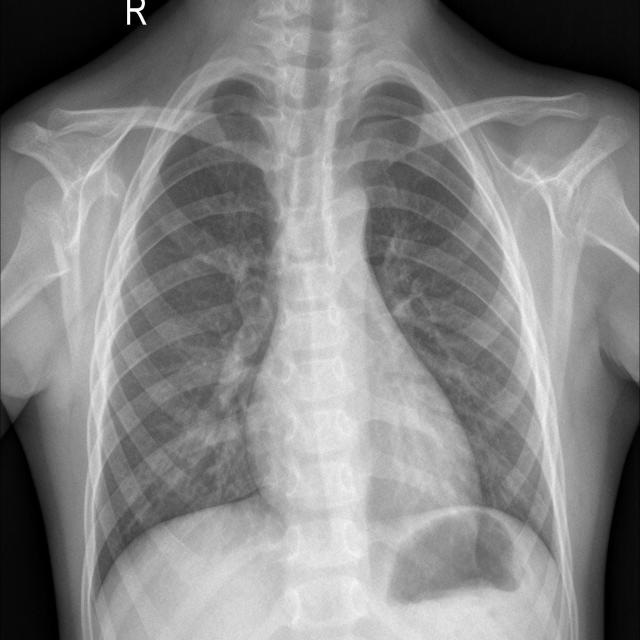no-pneumonia: (344, 82, 554, 540), (95, 79, 278, 583)
